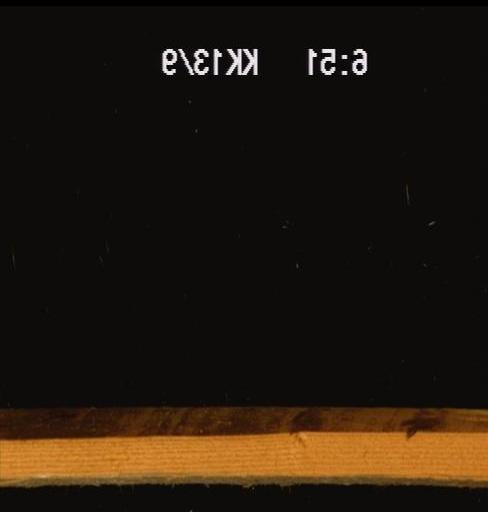wave: (1, 401, 486, 440), (0, 466, 483, 494)
